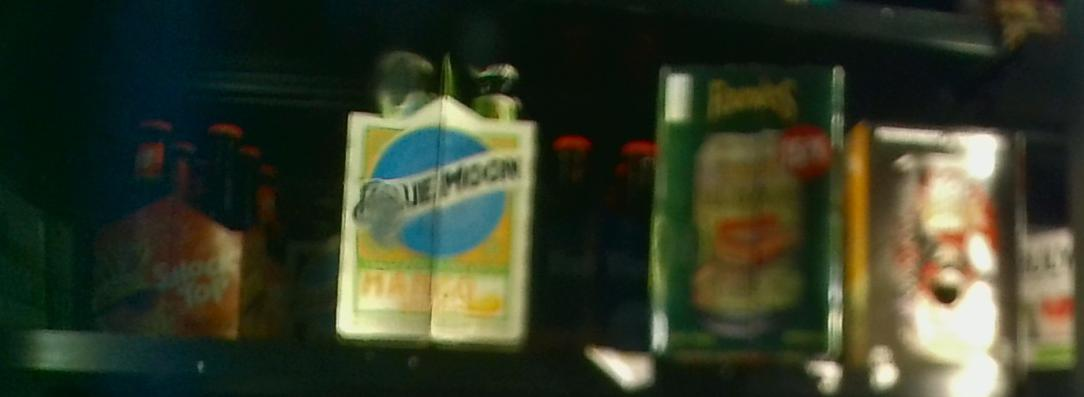bottle: (330, 52, 534, 340), (652, 63, 847, 359), (84, 116, 297, 332), (850, 117, 1014, 354)
